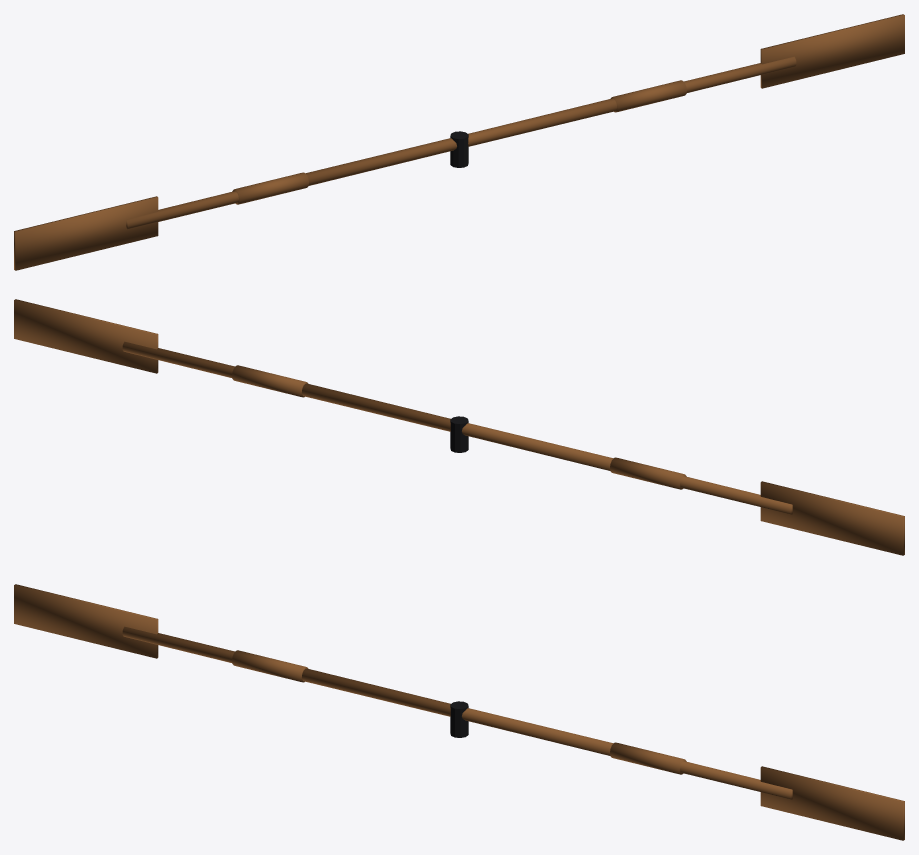
File: oars.glb
3 views of the same model, one above another, from view 1: azimuth 30°, elevation 25°; view 2: azimuth 150°, elevation 25°; view 3: azimuth 330°, elevation 25° (orthographic).
Visible parts, largest first — view 1: Oar_R, Oar_L, Oar_L_lock; view 2: Oar_R, Oar_L, Oar_L_lock; view 3: Oar_L, Oar_R, Oar_L_lock.
Boxes of the visible parts, x1=… form: Oar_R: x1=14, y1=80, x2=686, y2=270; Oar_L: x1=232, y1=14, x2=904, y2=204; Oar_L_lock: x1=450, y1=131, x2=468, y2=167; Oar_R: x1=232, y1=365, x2=904, y2=555; Oar_L: x1=14, y1=299, x2=686, y2=489; Oar_L_lock: x1=450, y1=416, x2=468, y2=452; Oar_L: x1=232, y1=650, x2=904, y2=840; Oar_R: x1=14, y1=584, x2=686, y2=774; Oar_L_lock: x1=450, y1=701, x2=468, y2=737.
Size of the model in its own units: 3.86 by 0.17 by 0.07.
